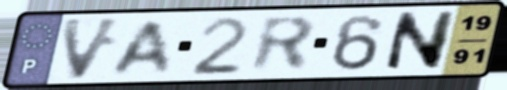2: (190, 15, 250, 77)
6: (330, 13, 387, 72)
A: (107, 18, 174, 77)
N: (380, 9, 459, 74)
R: (248, 15, 318, 75)
V: (59, 16, 127, 83)
